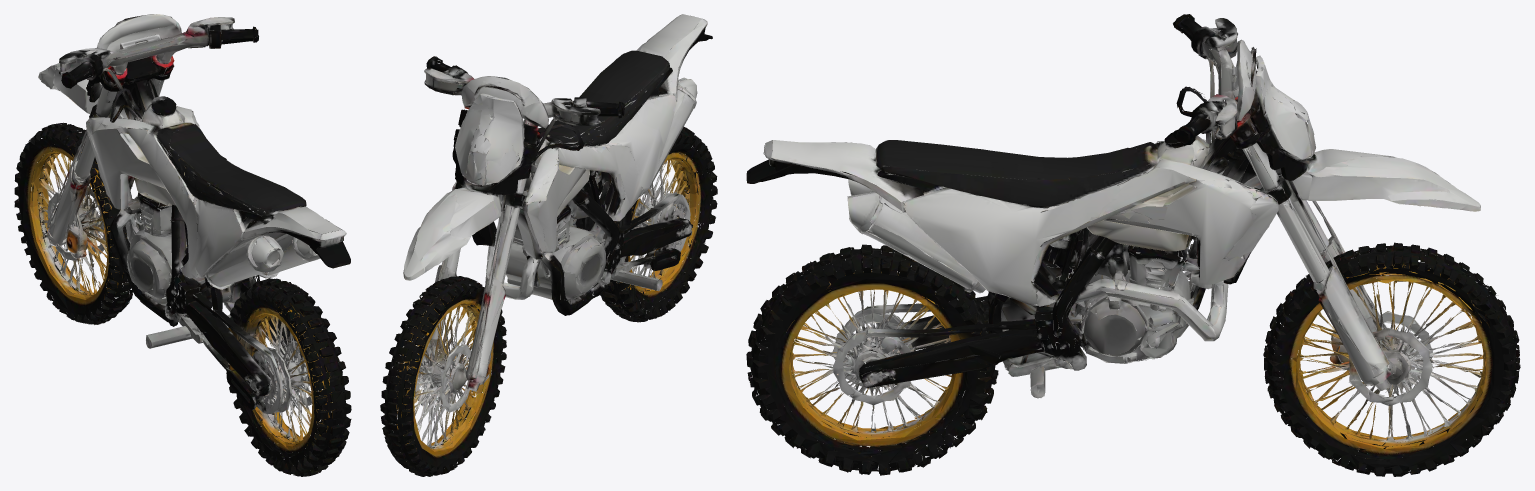
The model's file is bike_enduro.glb.
3 renders of one model, left to right at view 1: azimuth 30°, elevation 25°; view 2: azimuth 150°, elevation 25°; view 3: azimuth 270°, elevation 25°, orthographic. The views are drawn at different scales.
Visible parts, largest first — view 1: bike_body, wheel_r, wheel_f; view 2: bike_body, wheel_f, wheel_r; view 3: bike_body, wheel_r, wheel_f.
Part boxes in pixels (x1,y1,x2,y2): bike_body: [38, 14, 350, 440]; wheel_r: [202, 278, 351, 476]; wheel_f: [14, 122, 134, 324]; bike_body: [403, 14, 712, 445]; wheel_f: [380, 270, 506, 476]; wheel_r: [580, 127, 717, 322]; bike_body: [746, 14, 1481, 438]; wheel_r: [746, 244, 1005, 475]; wheel_f: [1263, 242, 1520, 476].
Size of the model in its own units: 0.908 by 1.53 by 2.52.
1 material, 1 textured.
